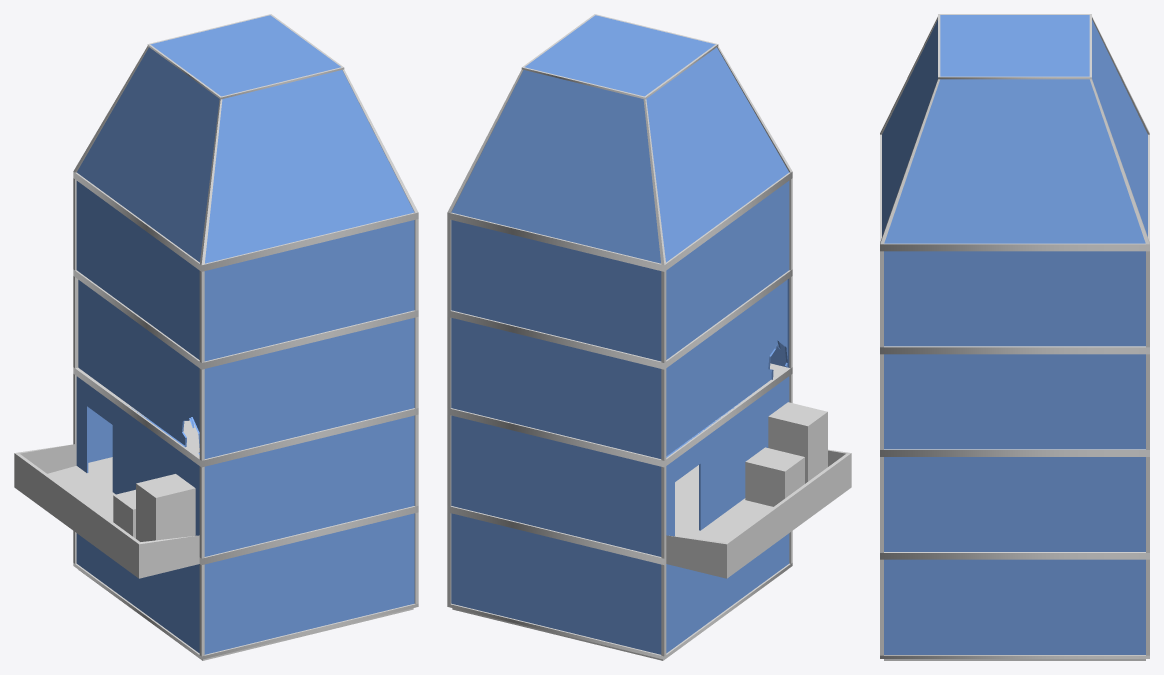
The model's file is Last_Building.fbx.
3 views of the same model, side by side, from view 1: azimuth 30°, elevation 25°; view 2: azimuth 150°, elevation 25°; view 3: azimuth 270°, elevation 25° (orthographic). The views are drawn at different scales.
Parts seen in each view (by area): view 1: Glass005, Glass004, Glass003, Glass002, Glass001, Box083, sddd, box002, box004, box003, box001, box (+2 smaller); view 2: Glass005, Glass004, Glass003, Glass002, Glass001, sddd, Box083, box004, box002, box003, box, box001 (+3 smaller); view 3: Glass005, Glass001, Glass003, Glass004, Glass002, sddd, box004, box002, box001, box003, box, Box087.
Boxes of the visible parts, x1,y1,x2,y2 form: Glass005: [76, 47, 414, 263]; Glass004: [76, 181, 414, 361]; Glass003: [78, 280, 414, 458]; Glass002: [76, 376, 414, 556]; Glass001: [76, 513, 414, 654]; Box083: [14, 444, 199, 578]; sddd: [150, 15, 340, 96]; box002: [73, 273, 418, 464]; box004: [73, 14, 418, 268]; box003: [73, 175, 418, 366]; box001: [73, 370, 418, 561]; box: [73, 509, 418, 659]; Glass005: [451, 47, 789, 263]; Glass004: [451, 181, 789, 361]; Glass003: [451, 278, 789, 458]; Glass002: [451, 376, 789, 556]; Glass001: [451, 513, 789, 654]; sddd: [525, 15, 715, 96]; Box083: [666, 449, 851, 578]; box004: [447, 14, 792, 268]; box002: [447, 273, 792, 464]; box003: [447, 175, 792, 366]; box: [447, 509, 792, 659]; box001: [447, 370, 792, 561]; Glass005: [882, 20, 1147, 243]; Glass001: [884, 559, 1145, 654]; Glass003: [884, 354, 1145, 449]; Glass004: [884, 251, 1145, 346]; Glass002: [884, 457, 1145, 551]; sddd: [940, 15, 1089, 76]; box004: [880, 14, 1149, 247]; box002: [880, 350, 1149, 453]; box001: [880, 453, 1149, 556]; box003: [880, 248, 1149, 350]; box: [880, 556, 1149, 658]; Box087: [884, 659, 1145, 660].
Size of the model in its own units: 532 by 978 by 426.
